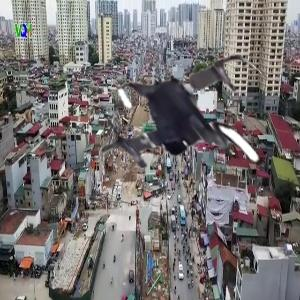drone: (91, 35, 292, 236)
